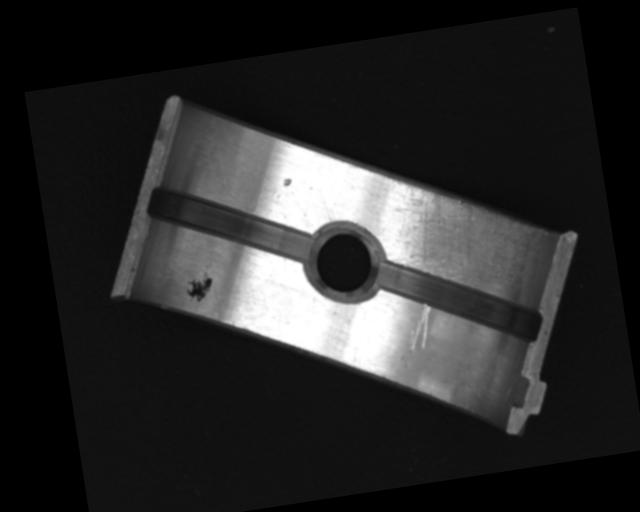blot: (183, 271, 217, 305)
bruise: (281, 177, 292, 187)
gap: (373, 238, 550, 366), (140, 164, 315, 284)
hole: (306, 220, 385, 301)
nick: (402, 303, 438, 355)
scratch: (379, 161, 559, 322)
